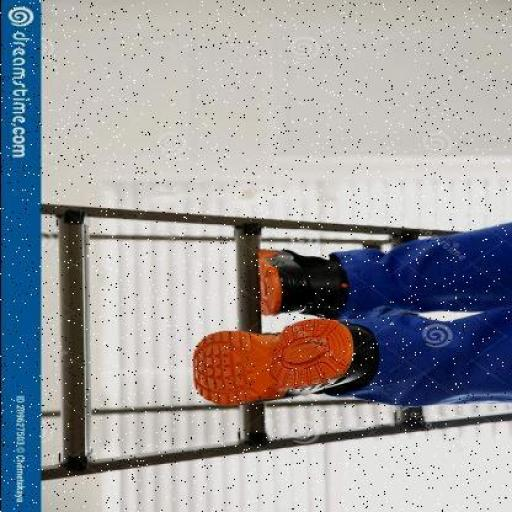safety_shoe: (180, 320, 358, 410), (255, 257, 348, 323)
